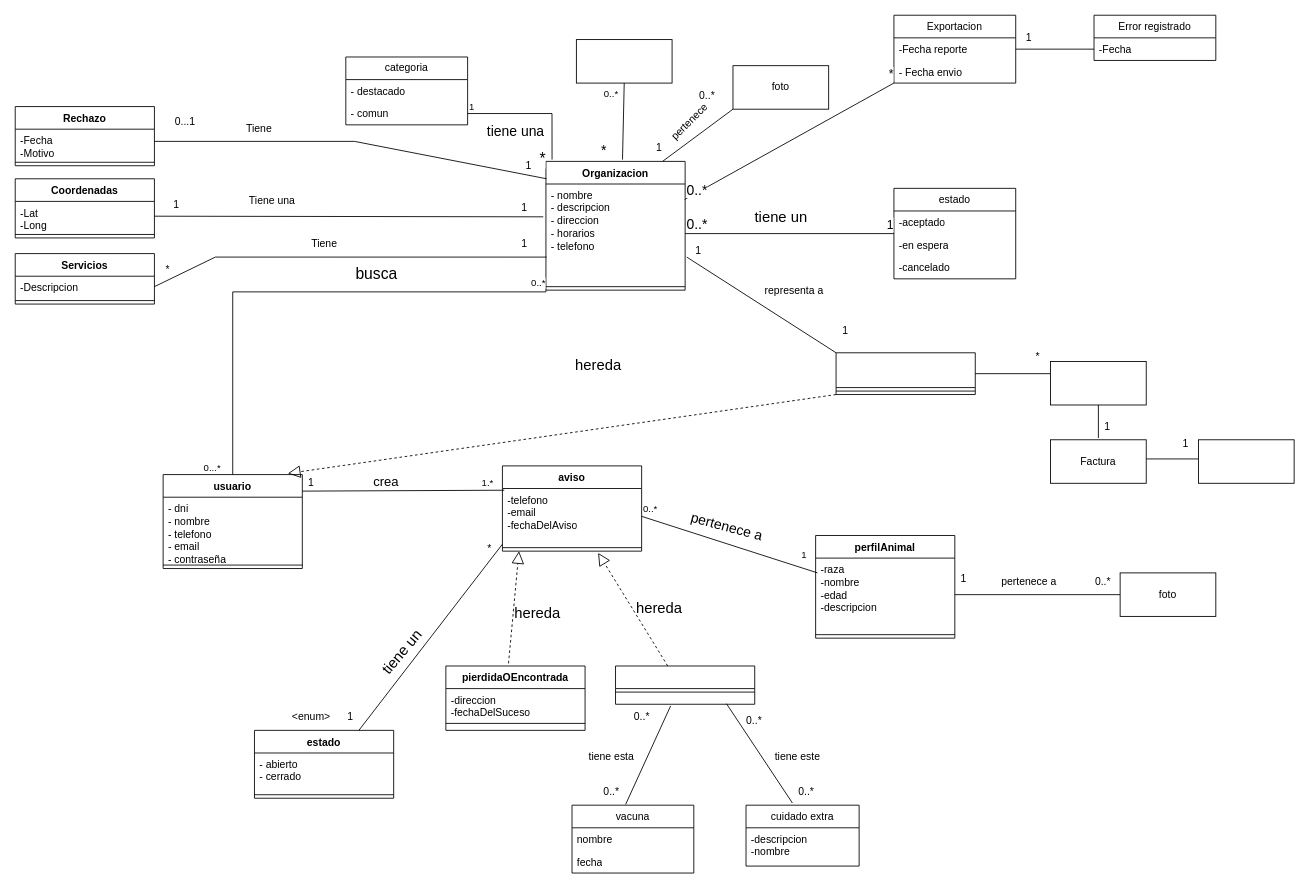
The diagram is 1309 pixels wide and 891 high, and some of its shapes have lost their labels. The shapes that lost their labels are listed below. From the top down, each one's centre as x and y in pixels, then its label:
At (x=624, y=61): "actividad".
At (x=905, y=373): "representante-de-organizacion".
At (x=1098, y=383): "Donacion".
At (x=1246, y=461): "Pago".
At (x=685, y=684): "avisoDeAdopcion".
